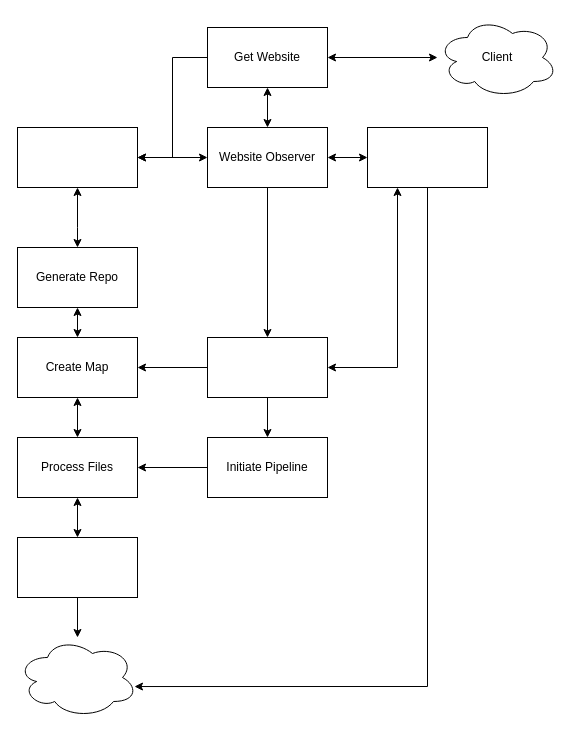
Image size: 575x735. Some labels were removed from this diagram. Each missing label, with the centre of its shape:
"Change Detected" goes at point (267, 367).
"Load Webserver" goes at point (77, 567).
"Scrapper" goes at point (77, 157).
"Snap Shot" goes at point (427, 157).
